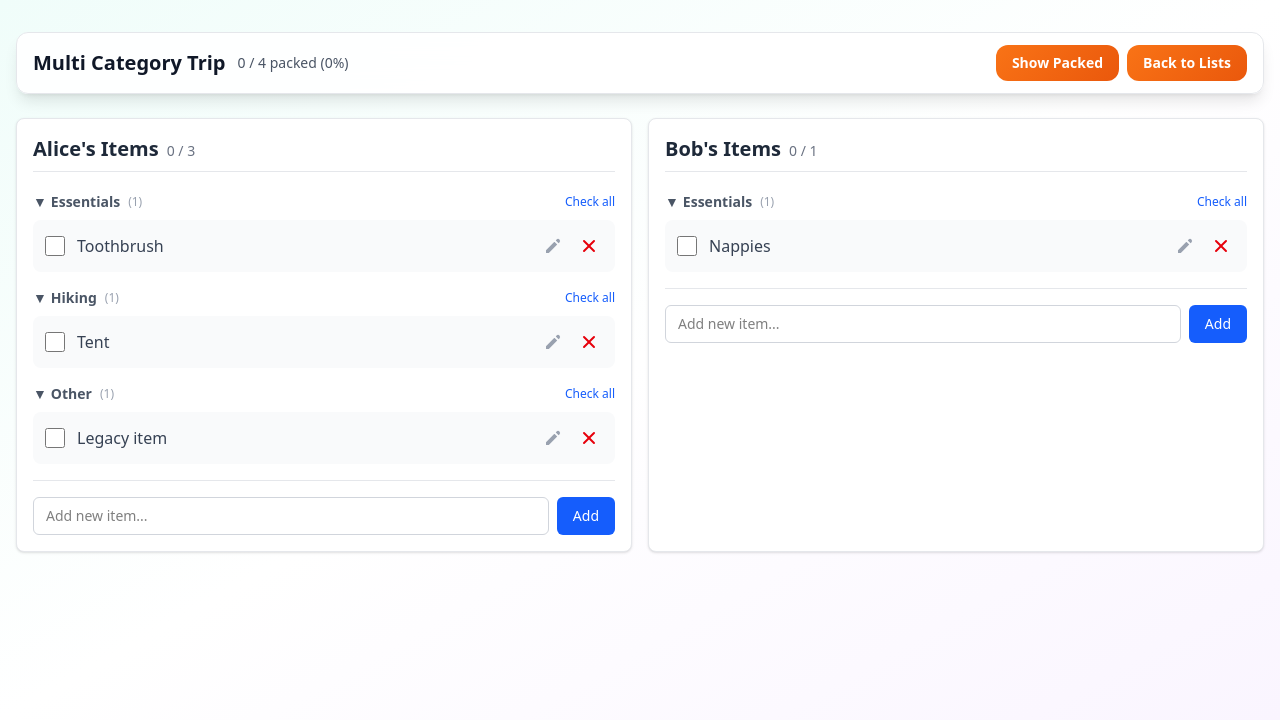
Test case: ViewPackingList category grouping › collapses a category when its toggle is clicked
Check: the text "Tent" is shown, box x1=77 y1=330 x2=110 y2=354
Step 1. Click the button with aria-label "Collapse Hiking" → [76, 298], box x1=33 y1=288 x2=119 y2=308
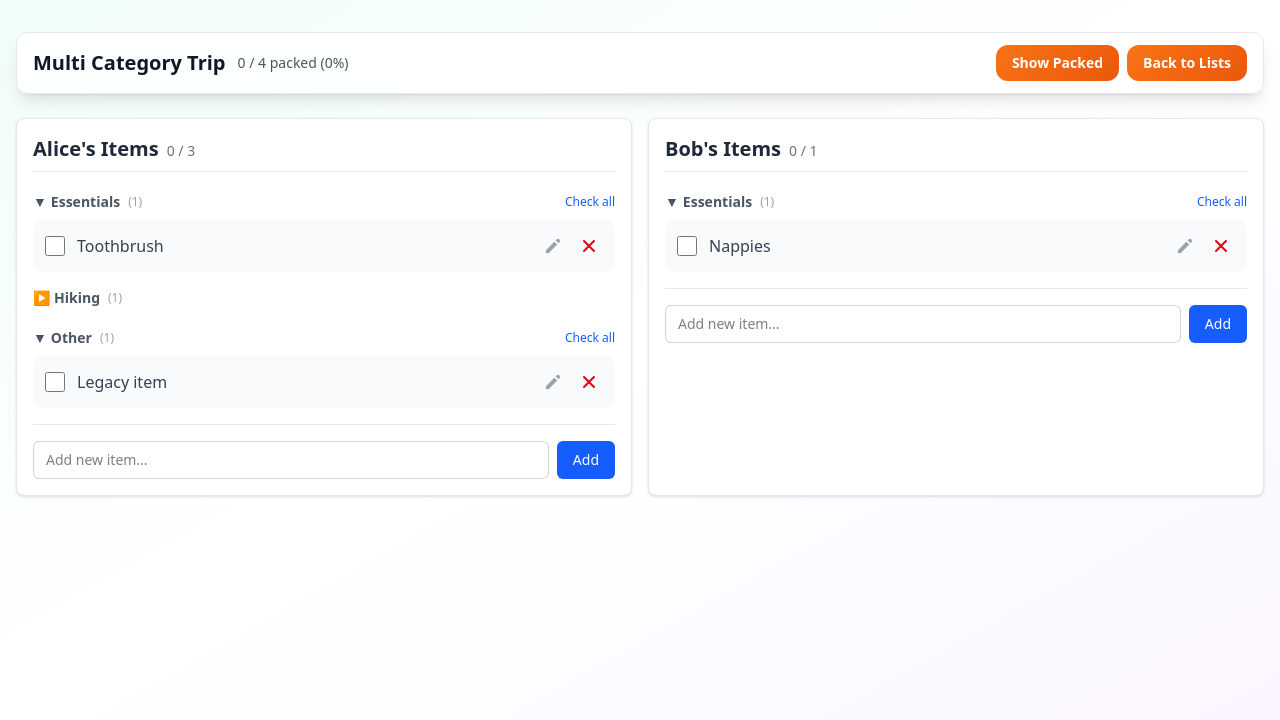
Check: the text "Tent" is gone
